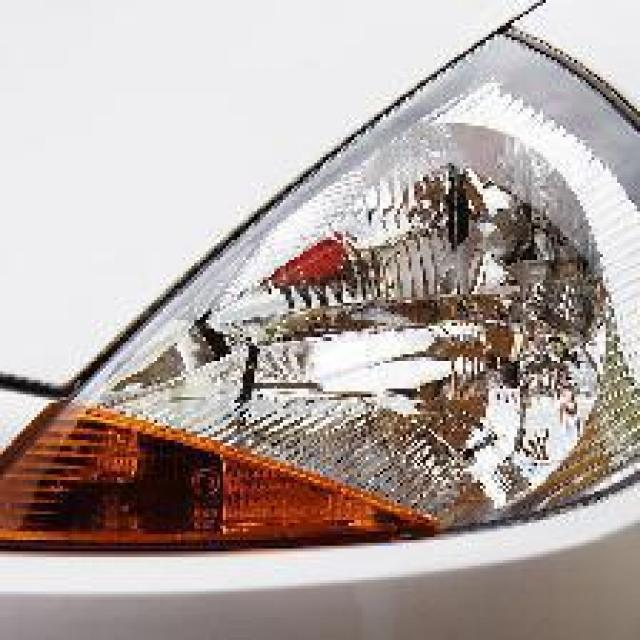damaged: (106, 160, 614, 523)
